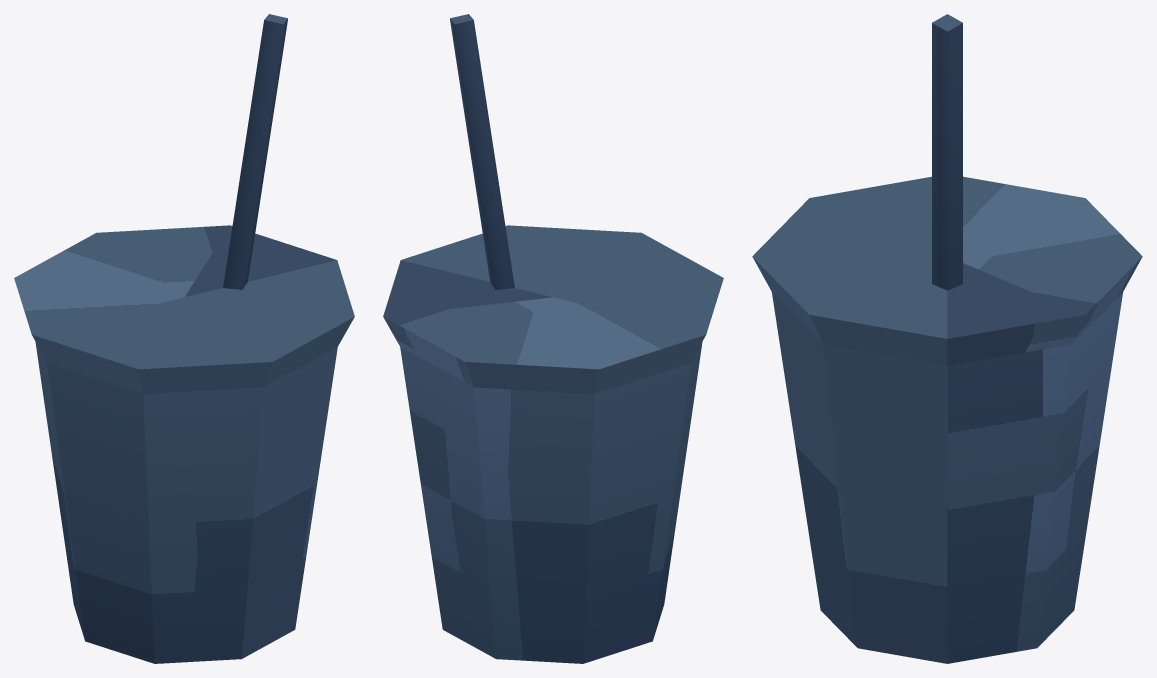
Rendered from cydress.cup.glb.
The picture shows the model from 3 angles, left to right: view 1: azimuth 30°, elevation 25°; view 2: azimuth 150°, elevation 25°; view 3: azimuth 270°, elevation 25°; orthographic projection. The views are drawn at different scales.
Visible parts, largest first — view 1: kit_body; view 2: kit_body; view 3: kit_body.
Boxes of the visible parts, bbox=[...] form: kit_body: bbox=[14, 14, 354, 663]; kit_body: bbox=[383, 14, 723, 663]; kit_body: bbox=[752, 14, 1142, 663].
Bounding box in the file's own units: 0.2 × 0.3613 × 0.2.
Materials: 2 (2 with a texture image).
